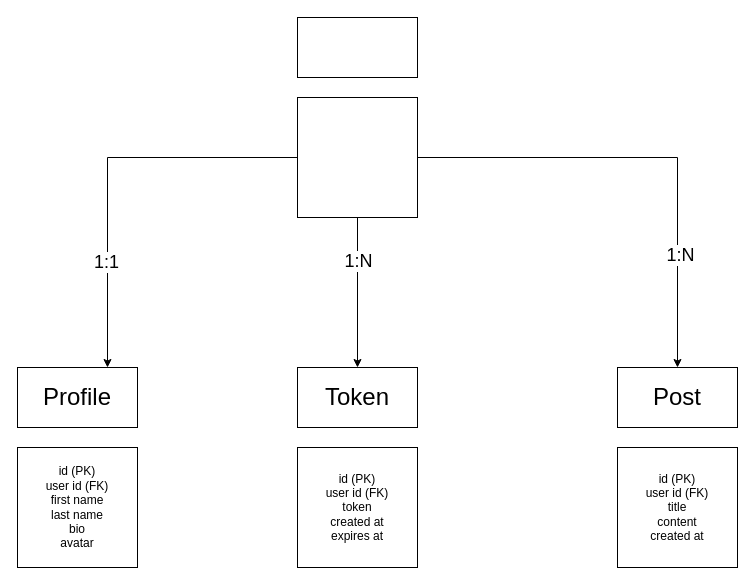
Image size: 755x585. Some labels were removed from this diagram. The shapes that lost their labels are listed below. From the top down, each one's box as (x1, y1, x2, y2) in pixels, then its label:
(296, 16, 418, 78): User
(296, 96, 418, 218): id (PK) username email password is active is staff date ioined
